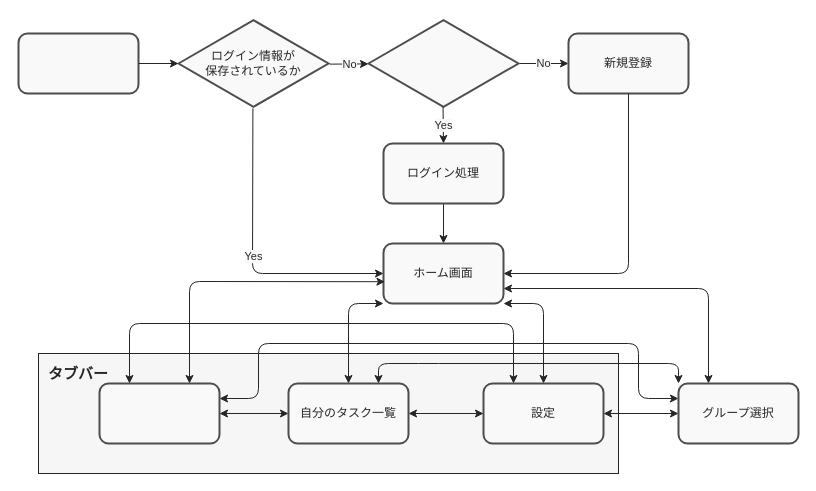
This 816x491 diagram has some shape labels left out. Here are the shapes that lost their labels. From the top down, the centre of each, then its label:
At [78,63]: "起動".
At [443,63]: "アカウントを 持っているか".
At [159,413]: "自分のカレンダー".
